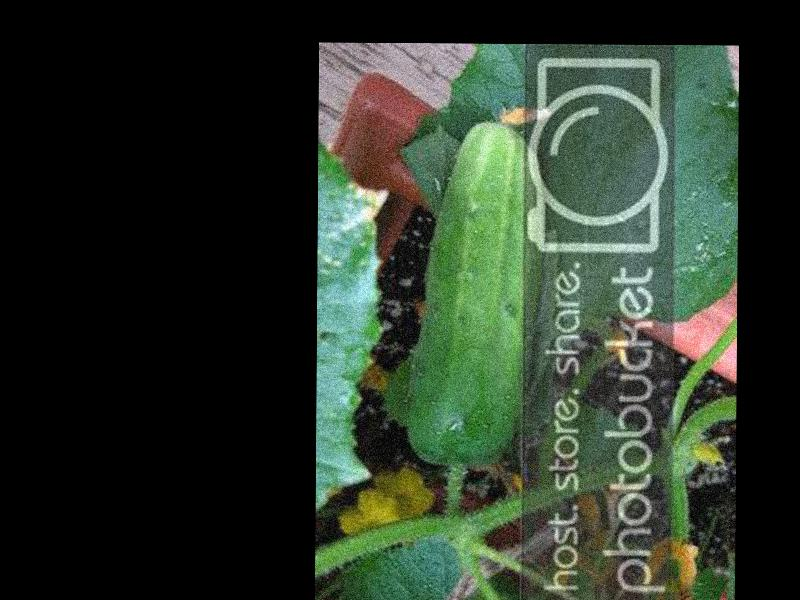Cucumber: (405, 118, 546, 463)
